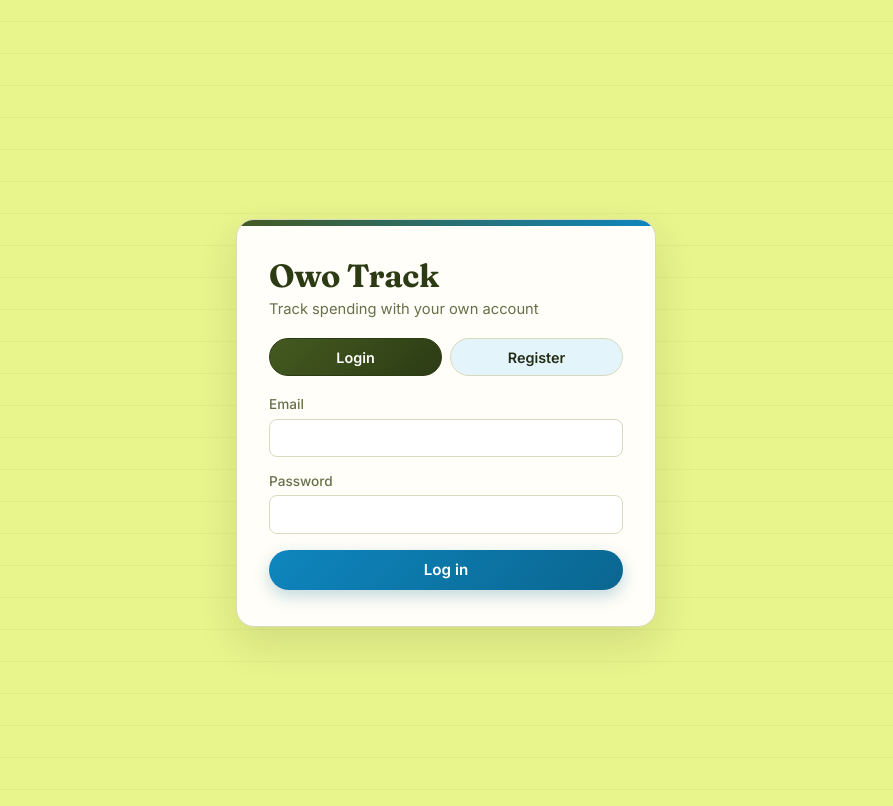
Scenario: App auth flow › shows a manager their team as a read-only list
Expected: the heading "Owo Track" is shown, 269,256 -> 439,295
Step 1. Type "grace@owo.com" into the field labelled "Email" → [446, 438], box 269,418 -> 623,457
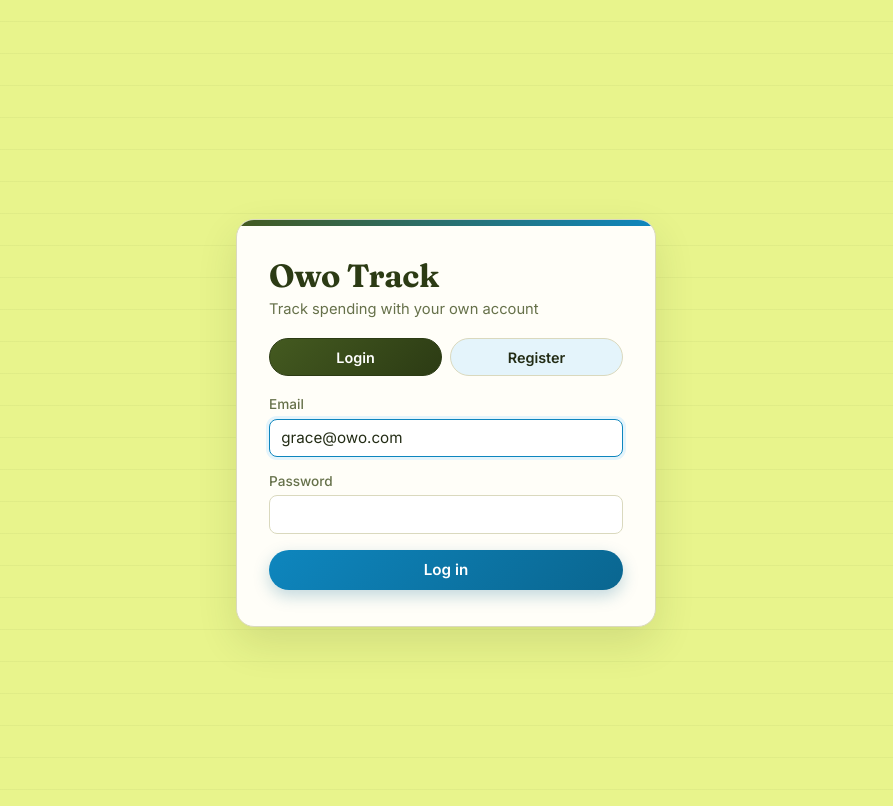
Step 2. Type "password123" into the password field labelled "Password" → [446, 515], box 269,496 -> 623,534
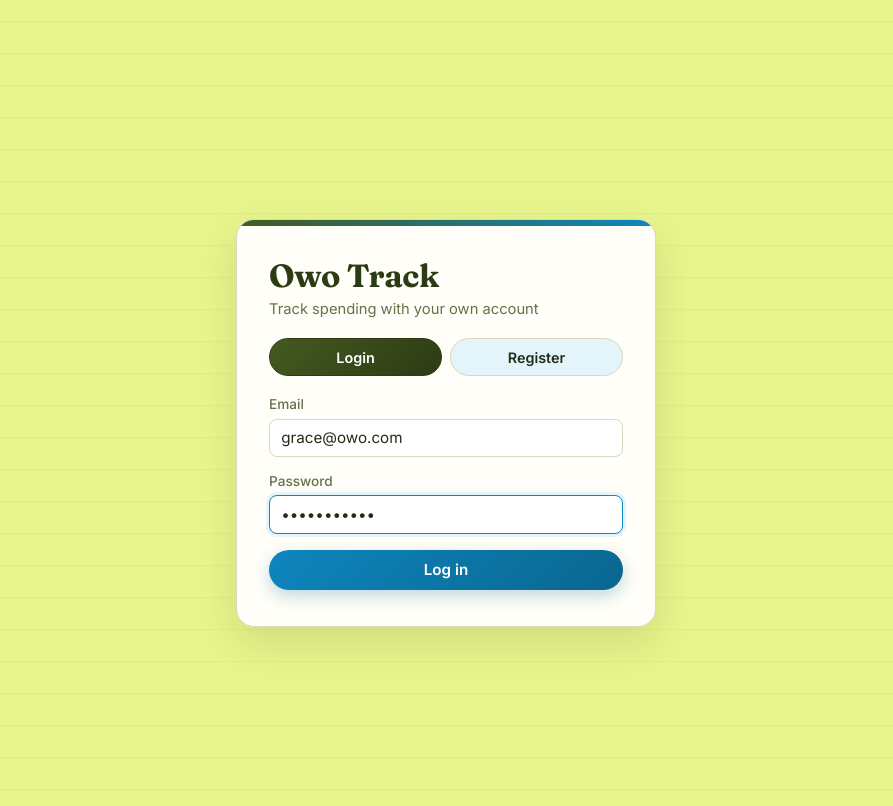
Step 3. Click the button "Log in" → [446, 570], box 269,550 -> 623,590
(page scrolled)
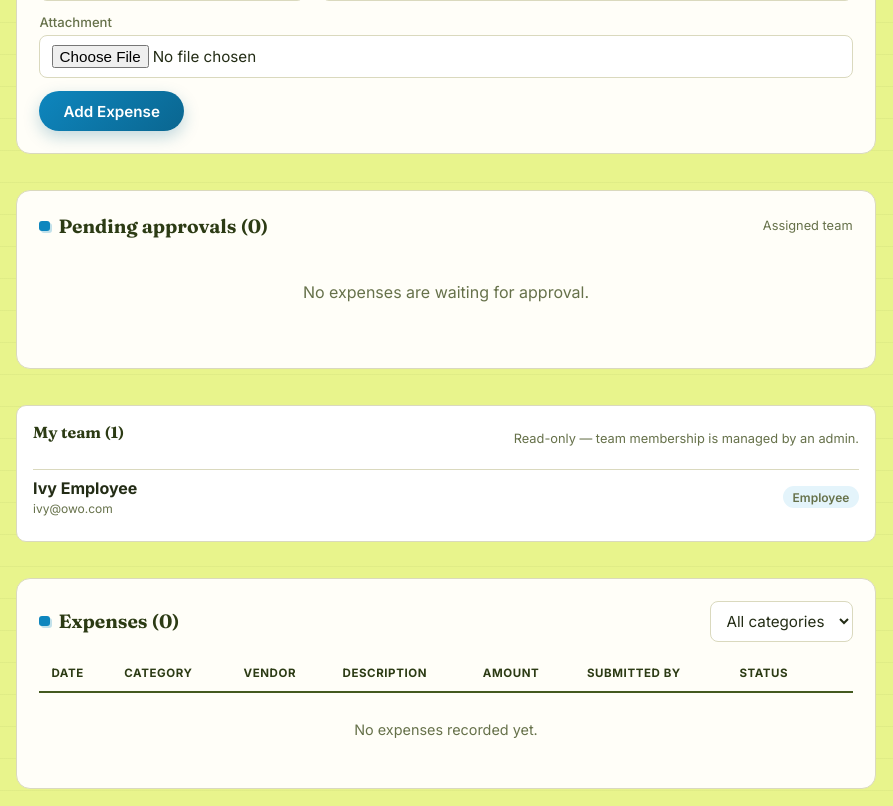
Now the heading "My team (1)" is shown, box 33,422 -> 124,442
Now the text "Ivy Employee" is shown, box 33,478 -> 137,498
